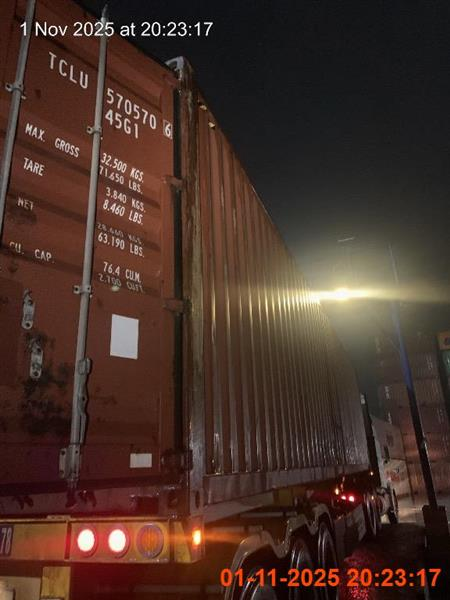dent: (3, 1, 398, 599)
